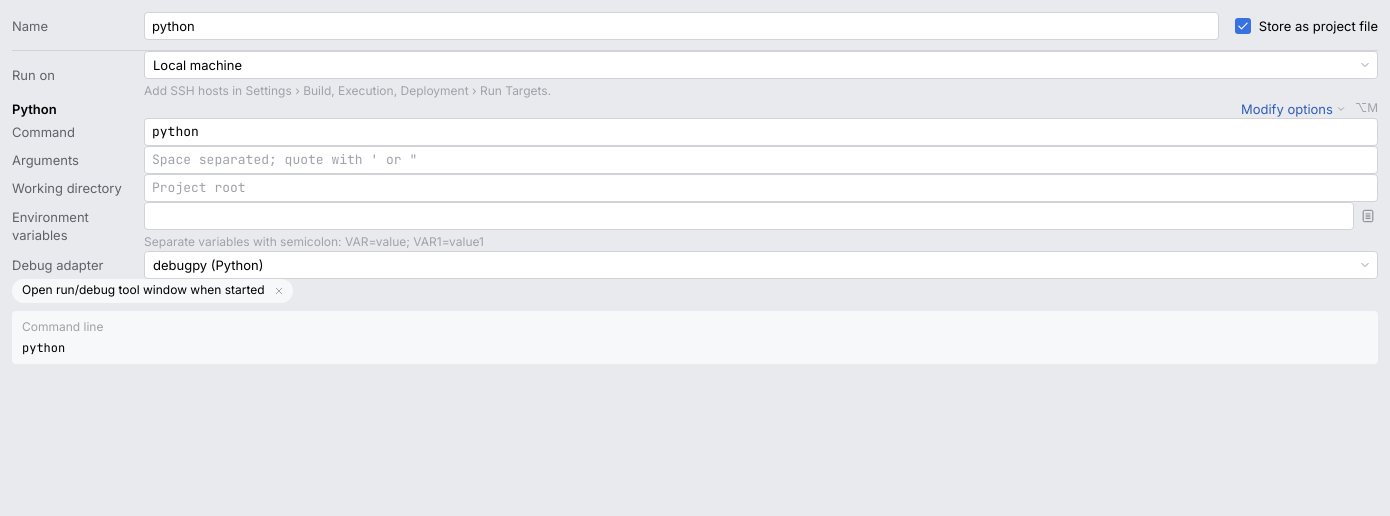
Test: offers Python, not JVM adapters, in the real configuration form
The image size is (1390, 516).
Click the button with aria-label "Debug adapter" at (208, 265), box [144,251,1378,279]
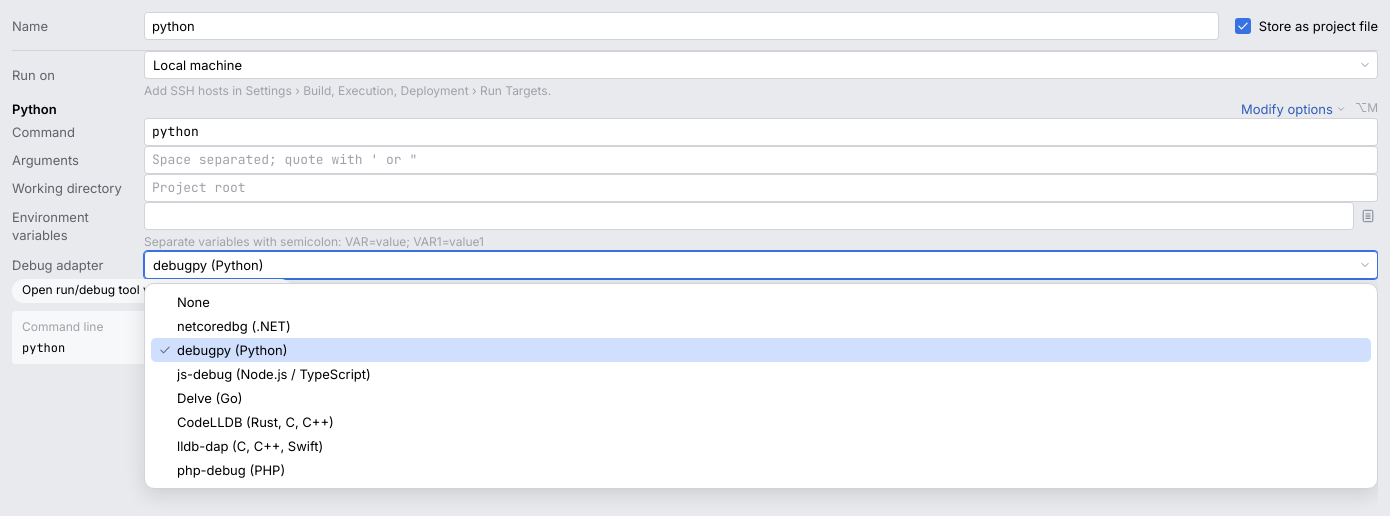
Now the 3rd option named "debugpy (Python)" is shown, box [151,338,1371,362]
